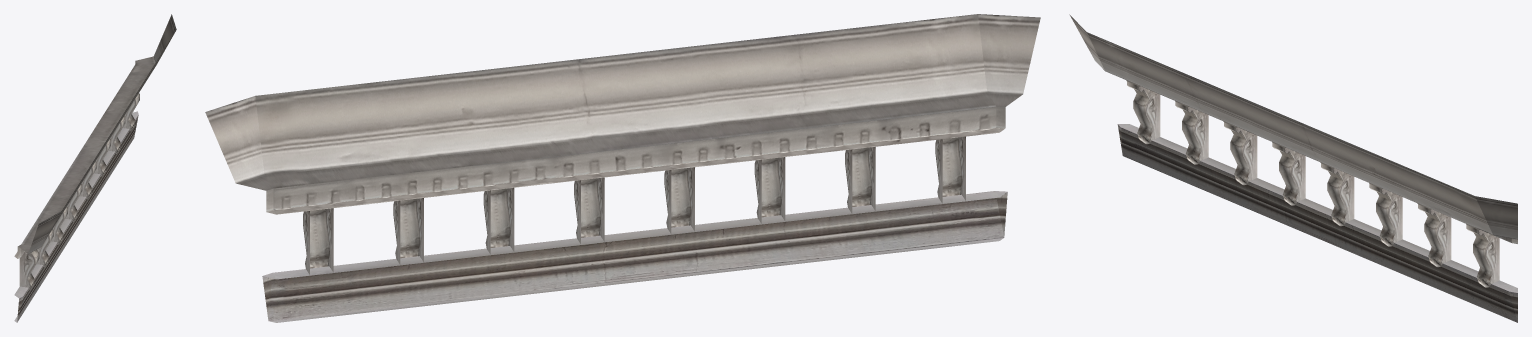
The model's file is WallRooflineDiag2A.fbx.
3 views of the same model, side by side, from view 1: azimuth 30°, elevation 25°; view 2: azimuth 150°, elevation 25°; view 3: azimuth 270°, elevation 25° (orthographic). The views are drawn at different scales.
Parts seen in each view (by area): view 1: WallRooflineDiag2A; view 2: WallRooflineDiag2A; view 3: WallRooflineDiag2A.
Part boxes in pixels (x1=…): WallRooflineDiag2A: x1=14, y1=14, x2=176, y2=322; WallRooflineDiag2A: x1=205, y1=14, x2=1040, y2=322; WallRooflineDiag2A: x1=1069, y1=14, x2=1517, y2=322.
Size of the model in its own units: 260 by 90.8 by 260.
